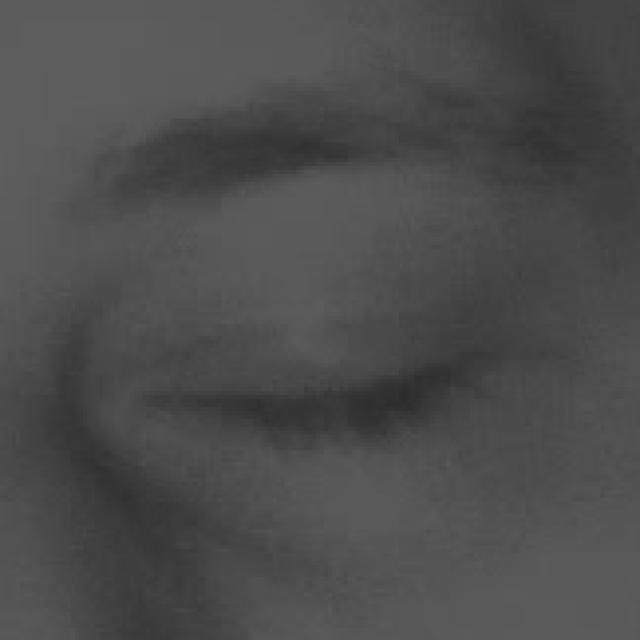Eyeclosed: (146, 262, 486, 539)
